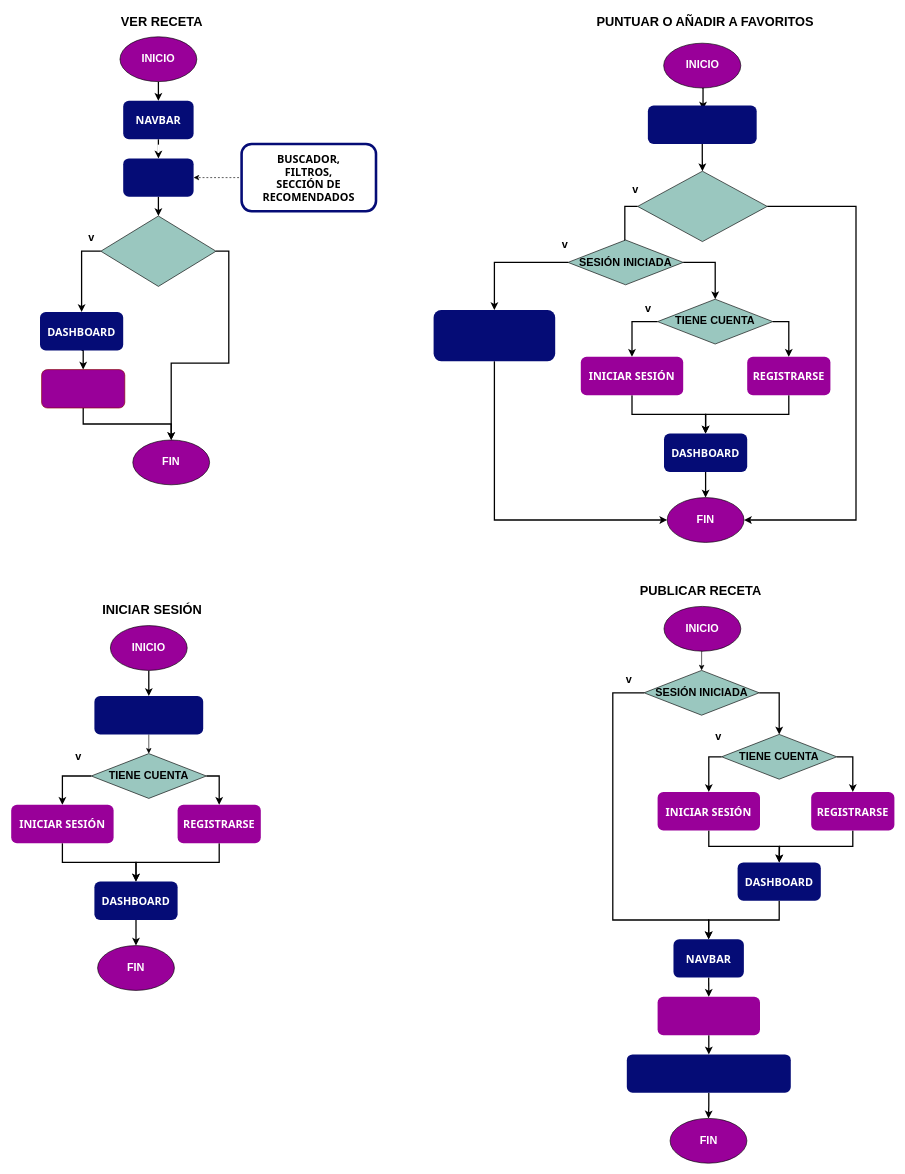
The diagram is 905 pixels wide and 1174 high, and some of its shapes have lost their labels. The centre of each missing label's shape, as x and y in pixels:
AGREGAR A FAVORITOS O PUNTUAR: point (494, 335)
BUSCAR COMIDA: point (158, 250)
ESPERAR APROBACIÓN: point (708, 1073)
GUARDAR RECETA || FAVORITOS: point (702, 206)
MENU: point (158, 177)
NAVBAR O FOOTER: point (148, 715)
NUEVA RECETA: point (708, 1015)
RECETA: point (83, 388)
SELECCIONAR RECETA: point (702, 124)
